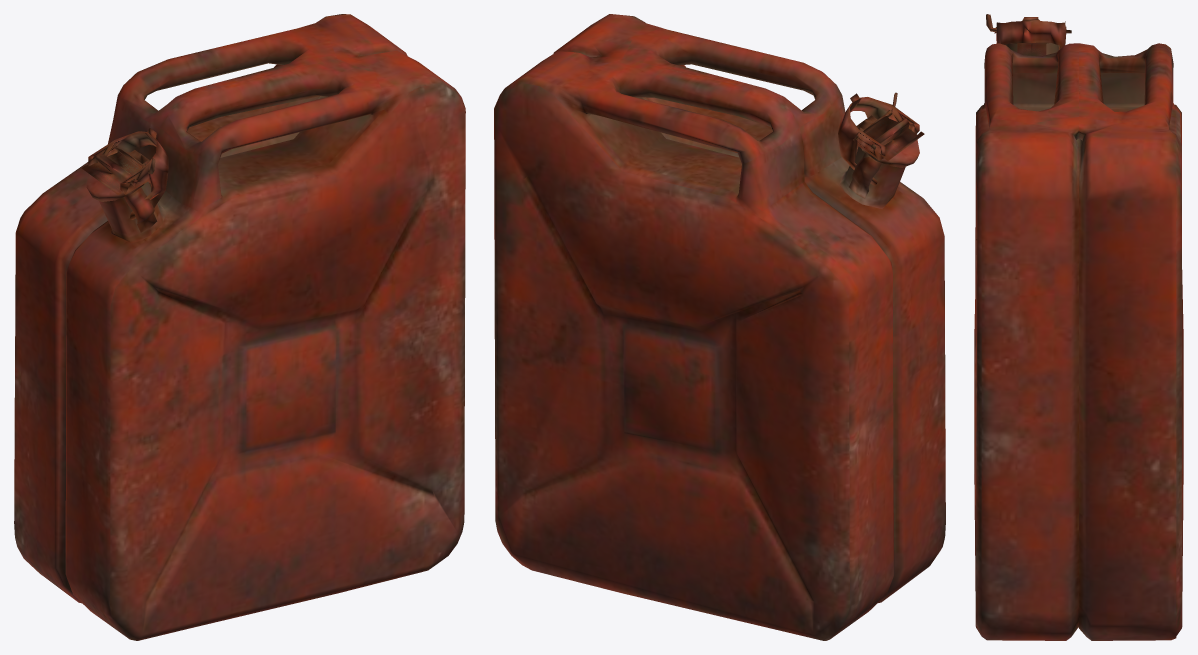
Rendered from metal_jerrycan.glb.
The picture shows the model from 3 angles, left to right: view 1: azimuth 30°, elevation 25°; view 2: azimuth 150°, elevation 25°; view 3: azimuth 270°, elevation 25°; orthographic projection. The views are drawn at different scales.
Visible parts, largest first — view 1: metal_jerrycan; view 2: metal_jerrycan; view 3: metal_jerrycan.
Boxes of the visible parts, left/top/right/bottom form: metal_jerrycan: left=14, top=14, right=465, bottom=640; metal_jerrycan: left=494, top=14, right=945, bottom=640; metal_jerrycan: left=974, top=14, right=1183, bottom=640.
Bounding box in the file's own units: 0.3489 × 0.4548 × 0.1717.
1 material, 1 textured.
